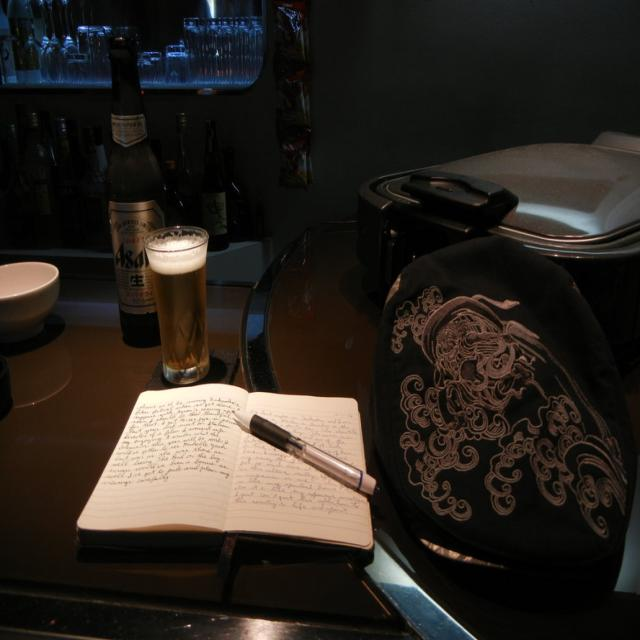Bottle: (90, 28, 161, 338), (157, 82, 201, 231), (73, 110, 114, 243), (199, 111, 228, 252)
Cup: (146, 231, 222, 398)
